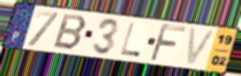3: (92, 17, 122, 56)
7: (26, 9, 60, 48)
B: (51, 12, 89, 51)
F: (148, 23, 188, 63)
L: (118, 21, 143, 59)
V: (185, 26, 219, 67)
